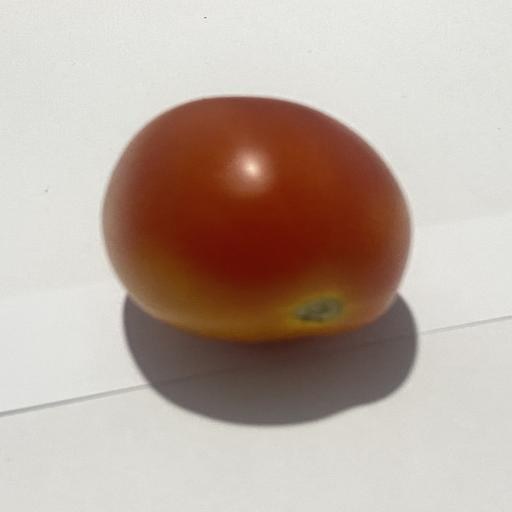ripe: (103, 97, 410, 341)
